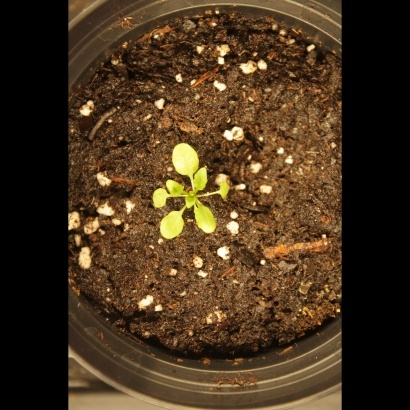leaf: (170, 137, 204, 178), (156, 210, 186, 242), (190, 205, 220, 237), (190, 164, 213, 193), (212, 180, 235, 203), (149, 187, 172, 210), (165, 178, 188, 201), (181, 188, 204, 211)
